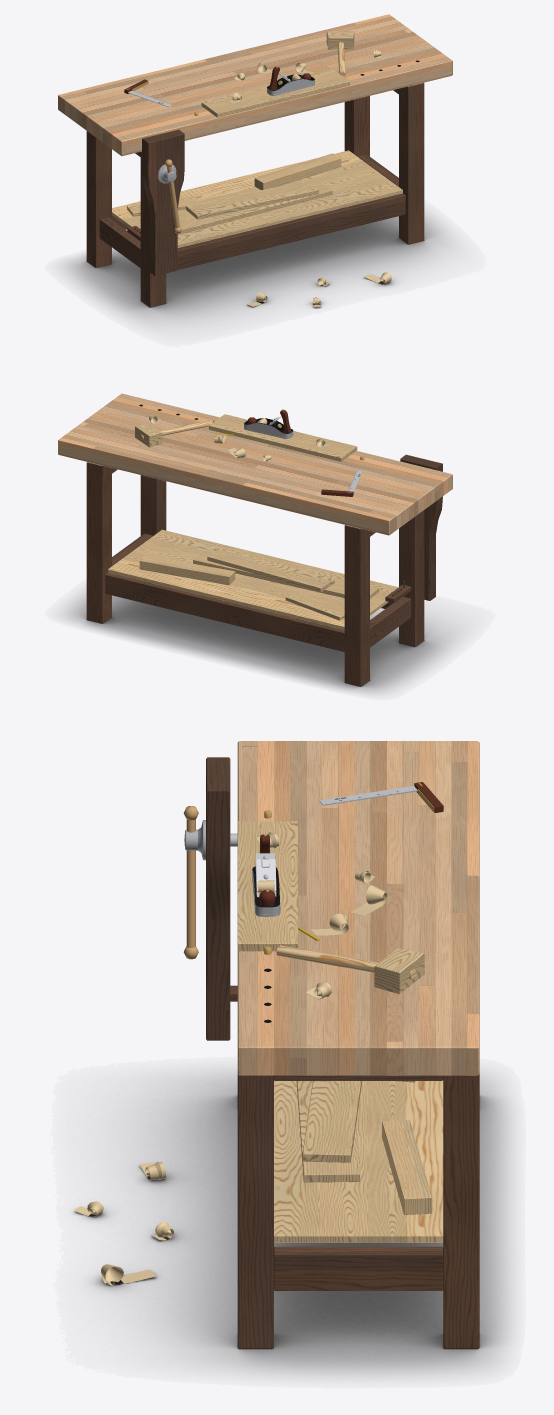
File: workbench.glb
3 renders of one model, top to bottom at view 1: azimuth 30°, elevation 25°; view 2: azimuth 150°, elevation 25°; view 3: azimuth 270°, elevation 25°, orthographic. The views are drawn at different scales.
Visible parts, largest first — view 1: workbench_LOD0, workbench_Shadow; view 2: workbench_LOD0, workbench_Shadow; view 3: workbench_LOD0, workbench_Shadow.
Boxes of the visible parts, bbox=[...] form: workbench_LOD0: bbox=[58, 14, 452, 307]; workbench_Shadow: bbox=[67, 215, 444, 320]; workbench_LOD0: bbox=[58, 393, 452, 686]; workbench_Shadow: bbox=[67, 594, 452, 692]; workbench_LOD0: bbox=[75, 741, 479, 1348]; workbench_Shadow: bbox=[73, 1073, 507, 1373].
Size of what is drawn, in the model's own units: 2.1 by 1.06 by 1.3.
5 materials, 5 textured.
